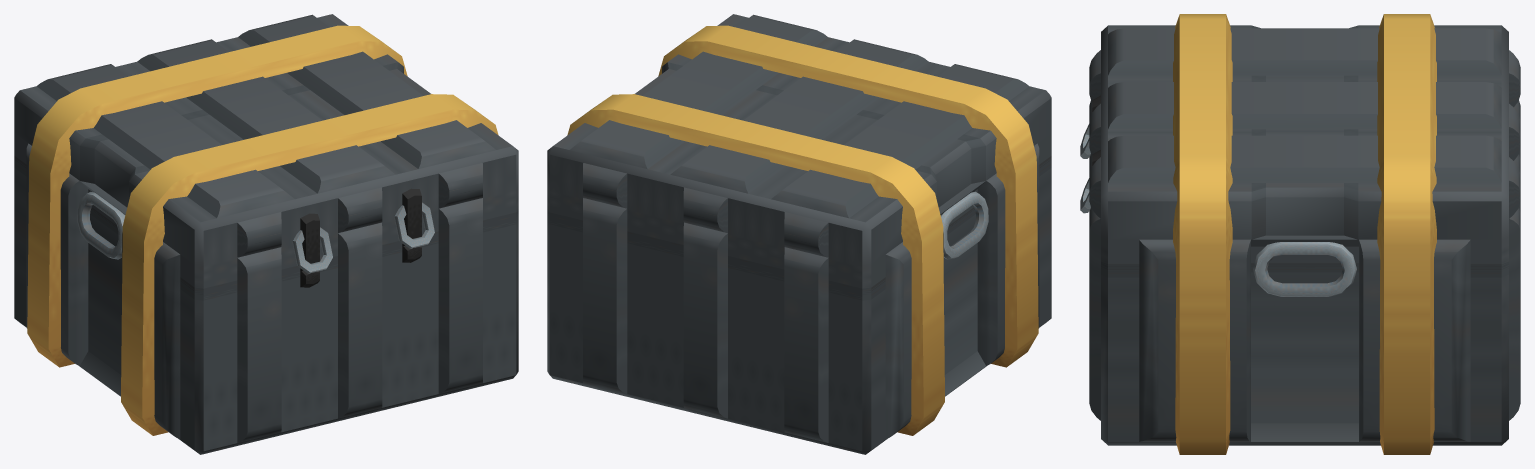
The model's file is containers-crate-large.glb.
3 views of the same model, side by side, from view 1: azimuth 30°, elevation 25°; view 2: azimuth 150°, elevation 25°; view 3: azimuth 270°, elevation 25° (orthographic). The views are drawn at different scales.
Parts seen in each view (by area): view 1: Containers_Crate_Large; view 2: Containers_Crate_Large; view 3: Containers_Crate_Large.
Boxes of the visible parts, x1,y1,x2,y2 form: Containers_Crate_Large: [14, 14, 518, 454]; Containers_Crate_Large: [547, 14, 1051, 454]; Containers_Crate_Large: [1080, 14, 1520, 454].
Bounding box in the file's own units: 1.57 × 1.05 × 1.51.
1 material, 1 textured.
